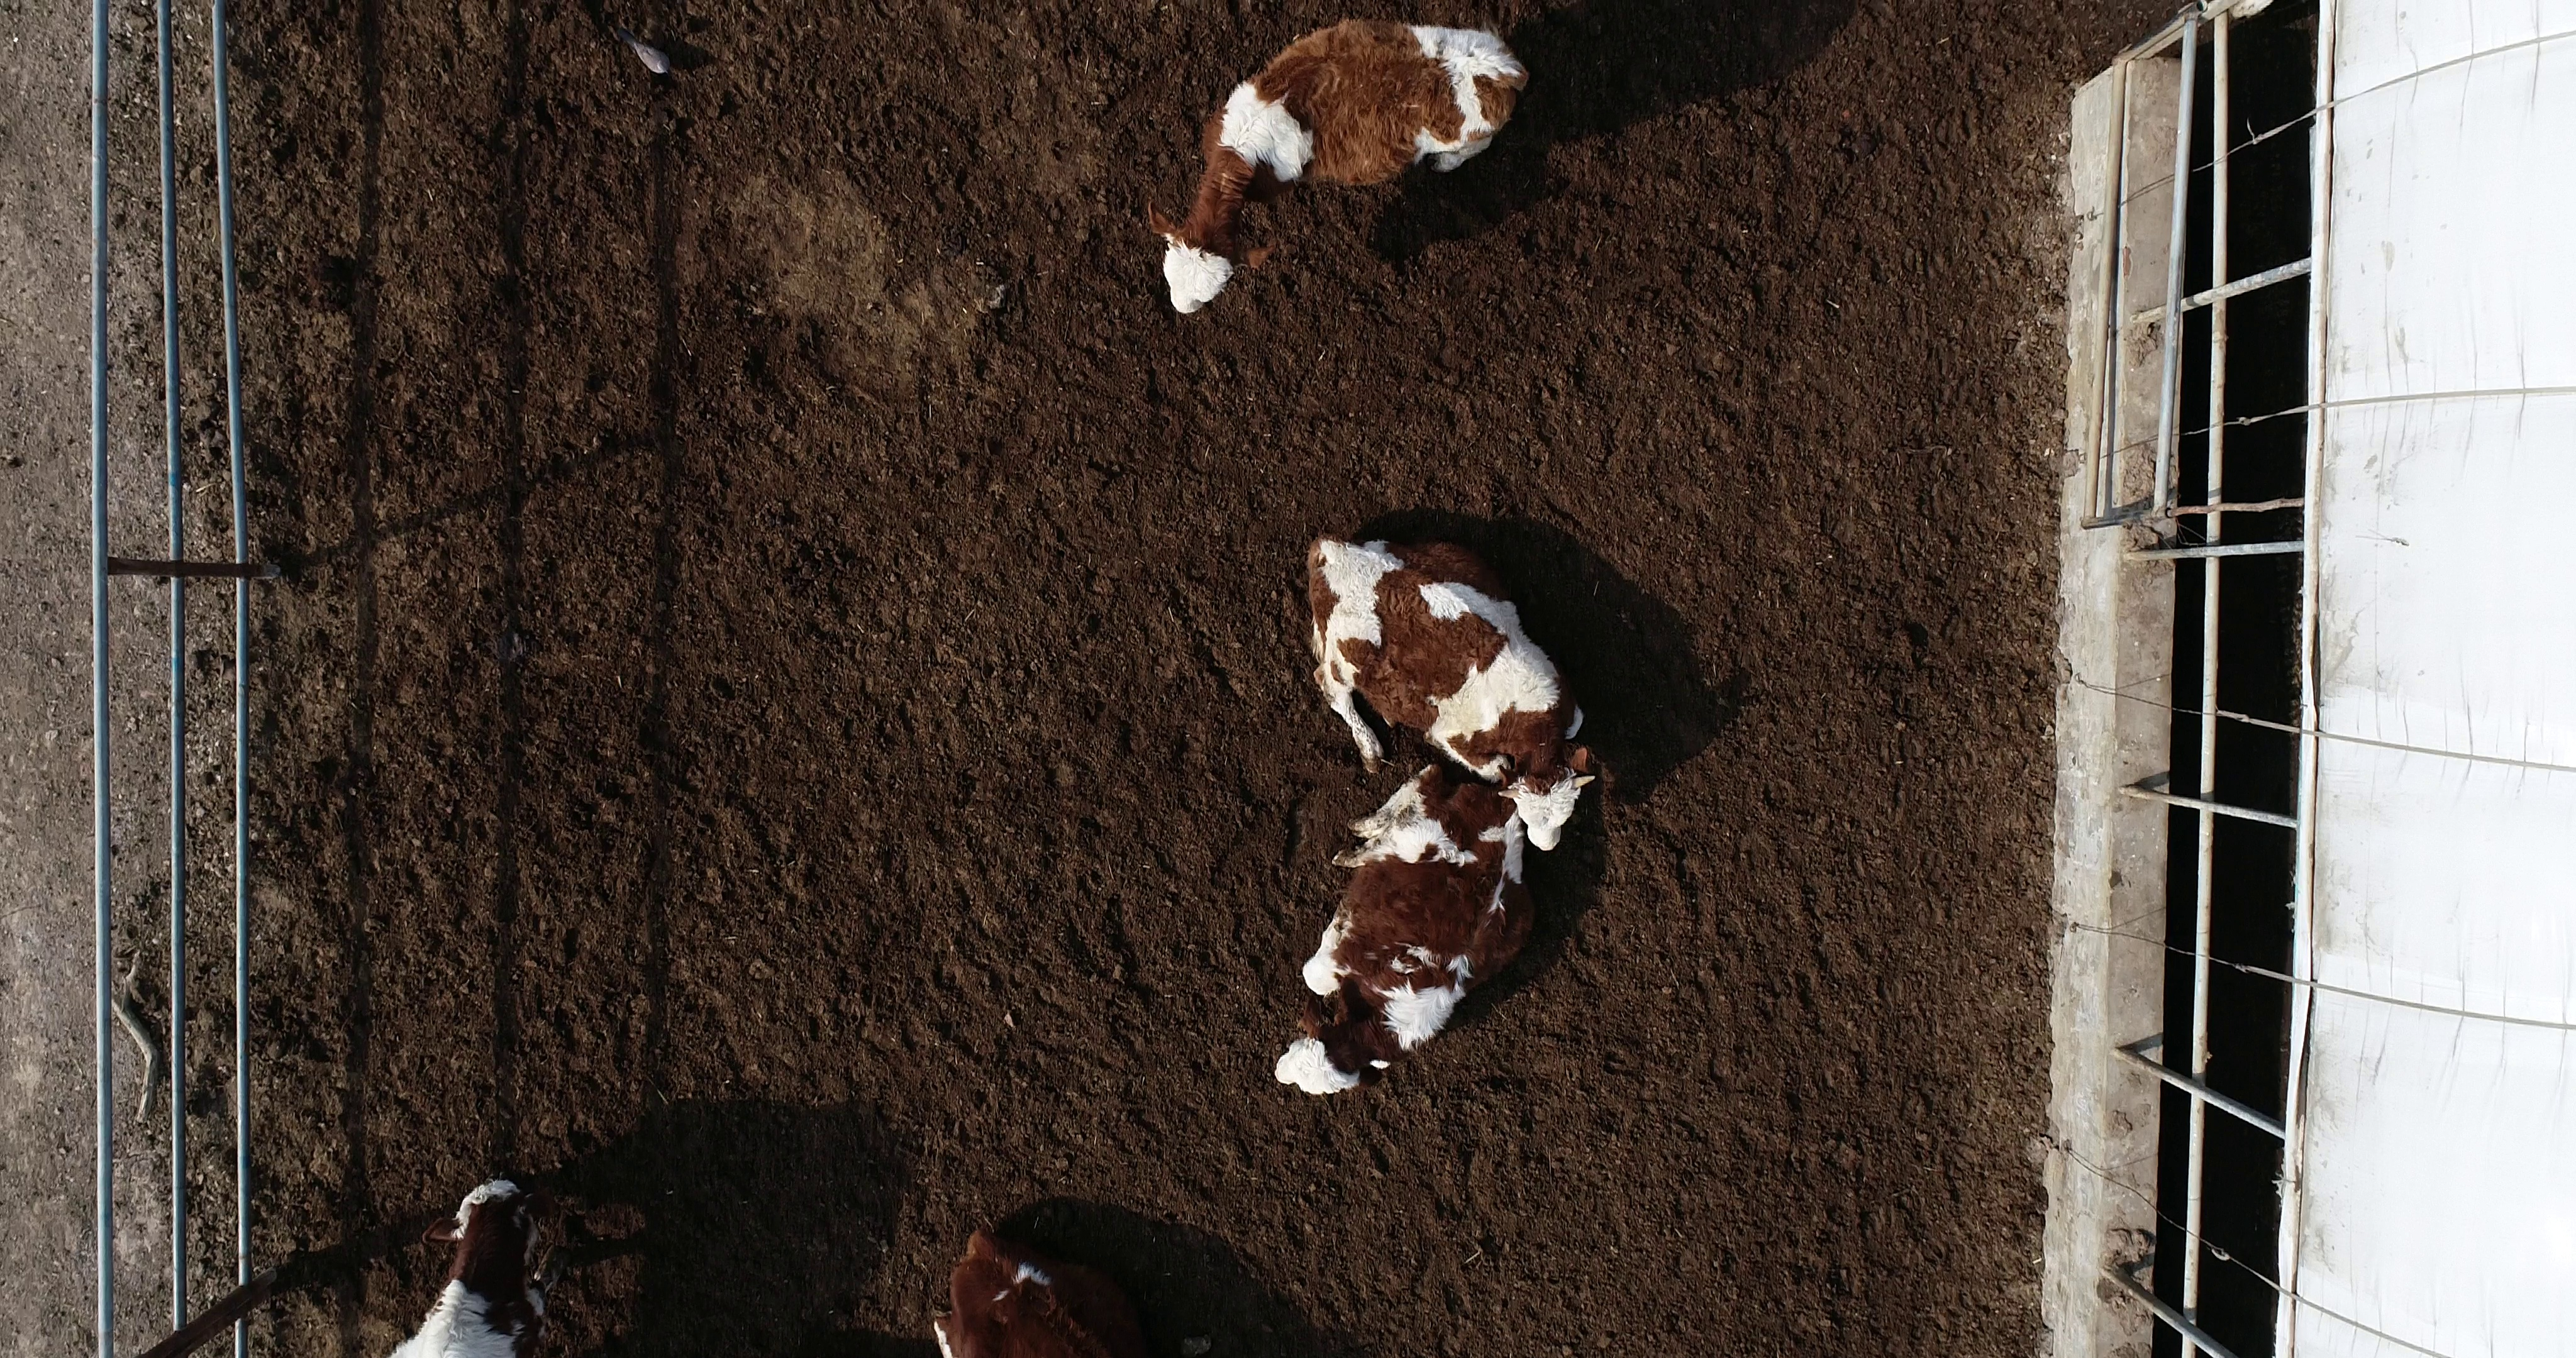cattle: (1143, 12, 1538, 322), (1297, 521, 1600, 855)
